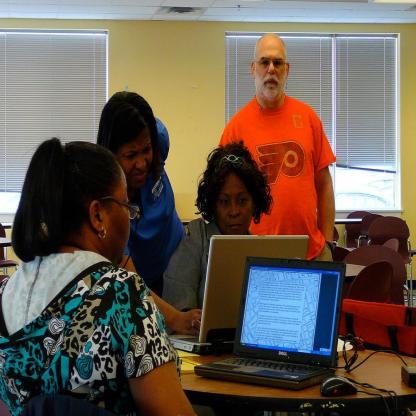board: (193, 256, 347, 390), (167, 235, 309, 355)
